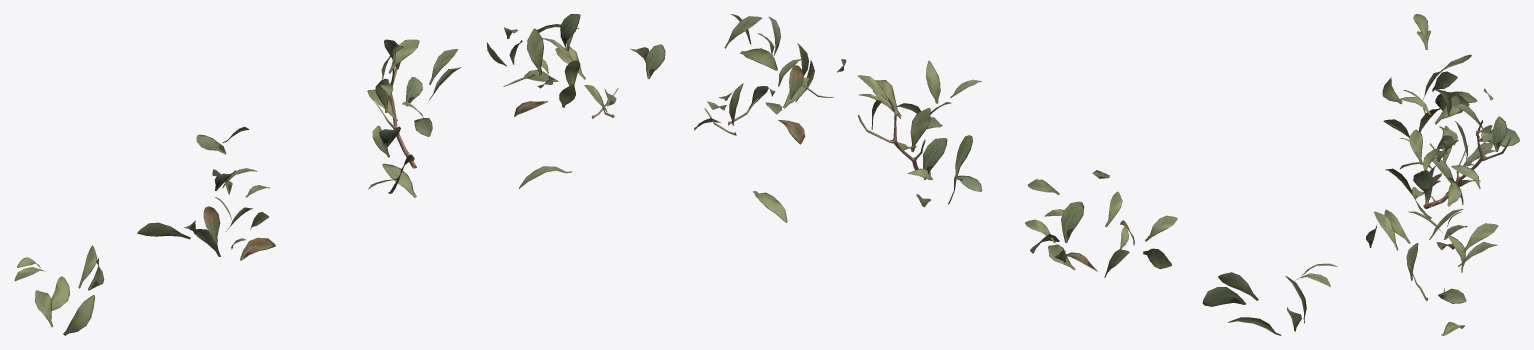
The model's file is shrub_04.glb.
3 views of the same model, side by side, from view 1: azimuth 30°, elevation 25°; view 2: azimuth 150°, elevation 25°; view 3: azimuth 270°, elevation 25° (orthographic). The views are drawn at different scales.
Visible parts, largest first — view 1: shrub_04_lod0; view 2: shrub_04_lod0; view 3: shrub_04_lod0.
Boxes of the visible parts, left/top/right/bottom form: shrub_04_lod0: left=14, top=14, right=665, bottom=335; shrub_04_lod0: left=694, top=14, right=1337, bottom=335; shrub_04_lod0: left=1366, top=14, right=1519, bottom=335.
Size of what is drawn, in the model's own units: 0.5723 by 0.1655 by 0.1254.
Materials: 1 (1 with a texture image).
